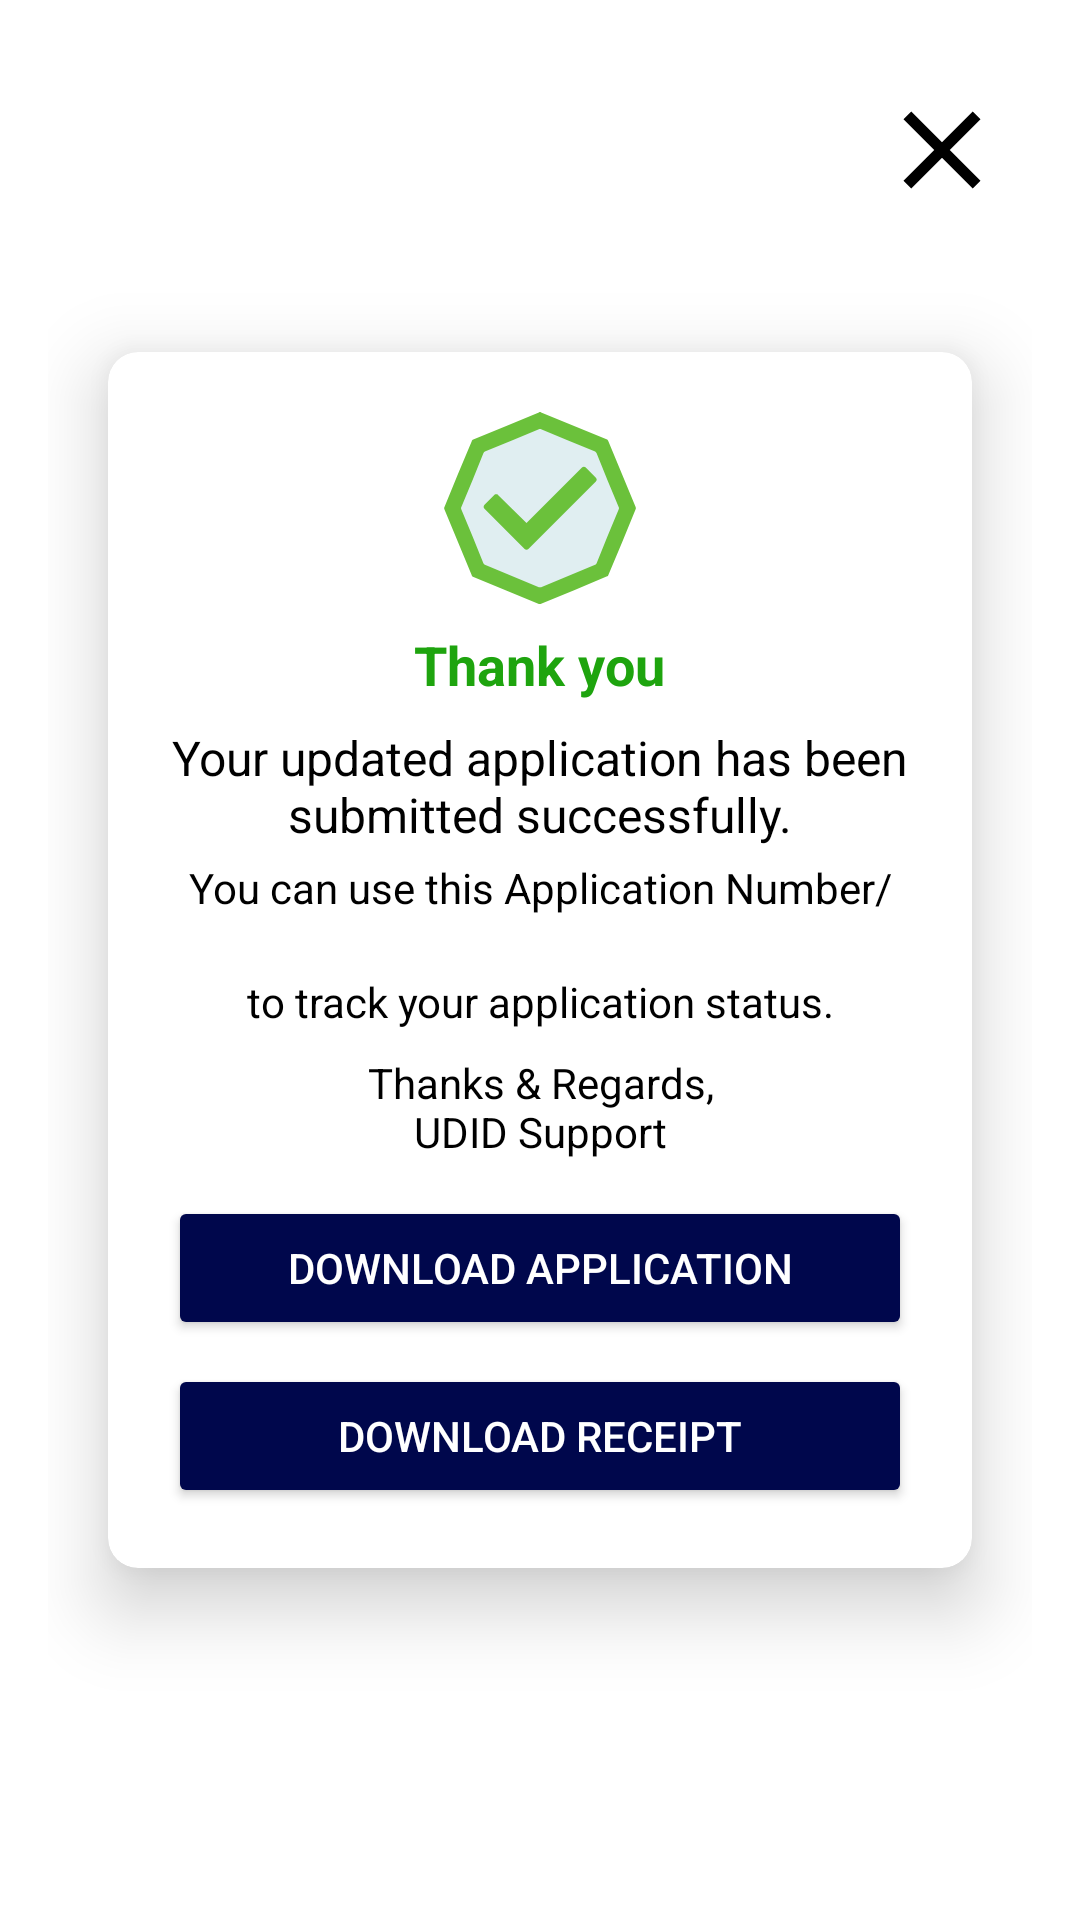

Locate icon controls on the screen. Image size 1080w x 1920h, boxes as (left=x1, top=y1, right=x2, bottom=y2).
check circle: (left=444, top=412, right=636, bottom=604)
Close Button: (left=903, top=111, right=981, bottom=189)
